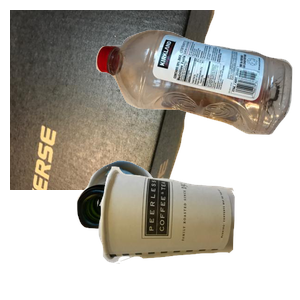cardboard: (10, 10, 217, 190)
glass: (74, 158, 223, 300)
plastic: (93, 27, 300, 154)
trash: (95, 164, 300, 300)
